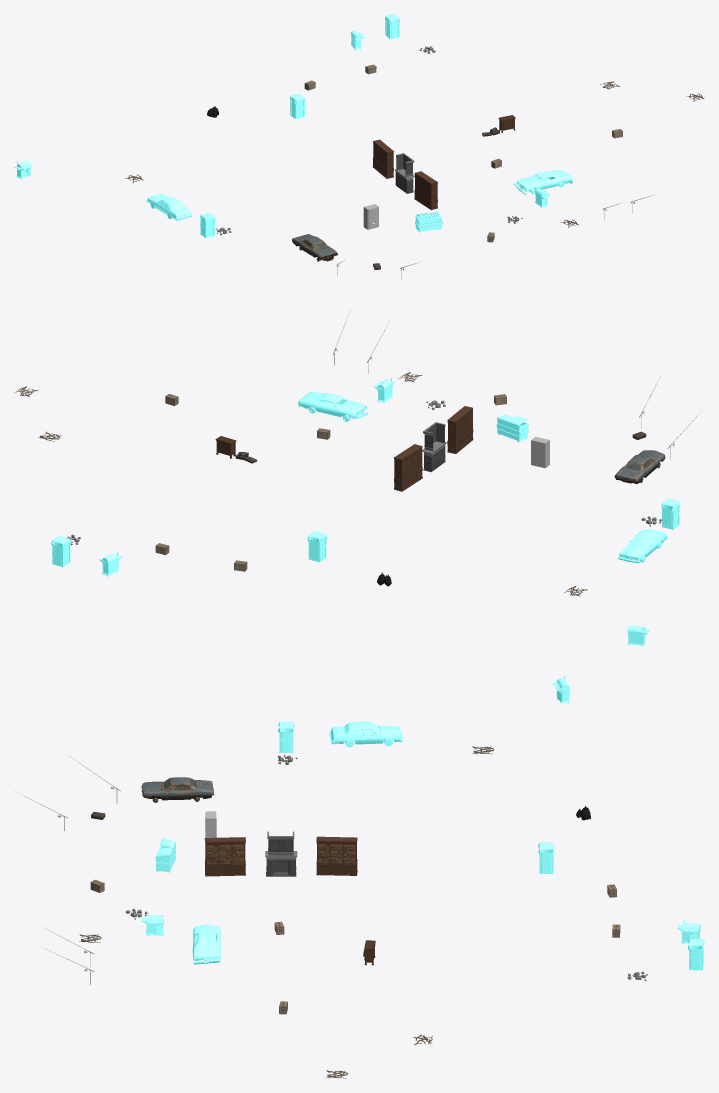
The model's file is UPTOWN.fbx.
The picture shows the model from 3 angles, top to bottom: view 1: azimuth 30°, elevation 25°; view 2: azimuth 150°, elevation 25°; view 3: azimuth 270°, elevation 25°; orthographic projection. The views are drawn at different scales.
Parts seen in each view (by area): view 1: ItemBox_Uptown_BookCase_01 (×2), Common_OBJ_WreckCar_White, Common_OBJ_WreckCar_Blue, ItemBox_Sedan_Brown_01, ItemBox_Uptown_FirePlace_01, ItemBox_Dumpster_01; view 2: ItemBox_Uptown_BookCase_01 (×2), Common_OBJ_WreckCar_White, ItemBox_SteelBox_03 (×2), Common_OBJ_WreckCar_Blue, ItemBox_Sedan_Brown_01, ItemBox_Uptown_FirePlace_01, ItemBox_Dumpster_01, ItemBox_VendingMachine_01; view 3: ItemBox_Uptown_BookCase_01 (×2), Common_OBJ_WreckCar_Blue, ItemBox_Sedan_Brown_01, ItemBox_Uptown_FirePlace_01, Common_OBJ_WreckCar_White.
Boxes of the visible parts, box(x1,y1,x2,y2) form: ItemBox_Uptown_BookCase_01 (×2): box(372, 139, 437, 210); Common_OBJ_WreckCar_White: box(513, 170, 573, 194); Common_OBJ_WreckCar_Blue: box(292, 234, 337, 261); ItemBox_Sedan_Brown_01: box(146, 193, 192, 220); ItemBox_Uptown_FirePlace_01: box(394, 153, 414, 193); ItemBox_Dumpster_01: box(415, 211, 442, 232); ItemBox_Uptown_BookCase_01 (×2): box(394, 406, 473, 491); Common_OBJ_WreckCar_White: box(297, 392, 367, 421); ItemBox_SteelBox_03 (×2): box(51, 531, 327, 567); Common_OBJ_WreckCar_Blue: box(614, 450, 665, 483); ItemBox_Sedan_Brown_01: box(617, 529, 667, 563); ItemBox_Uptown_FirePlace_01: box(422, 422, 446, 472); ItemBox_Dumpster_01: box(496, 414, 528, 442); ItemBox_VendingMachine_01: box(531, 436, 549, 468); ItemBox_Uptown_BookCase_01 (×2): box(204, 836, 357, 876); Common_OBJ_WreckCar_Blue: box(141, 777, 214, 802); ItemBox_Sedan_Brown_01: box(329, 721, 402, 747); ItemBox_Uptown_FirePlace_01: box(265, 831, 297, 876); Common_OBJ_WreckCar_White: box(192, 924, 220, 964).
Bounding box in the file's own units: 64.99 × 4.21 × 49.37.
